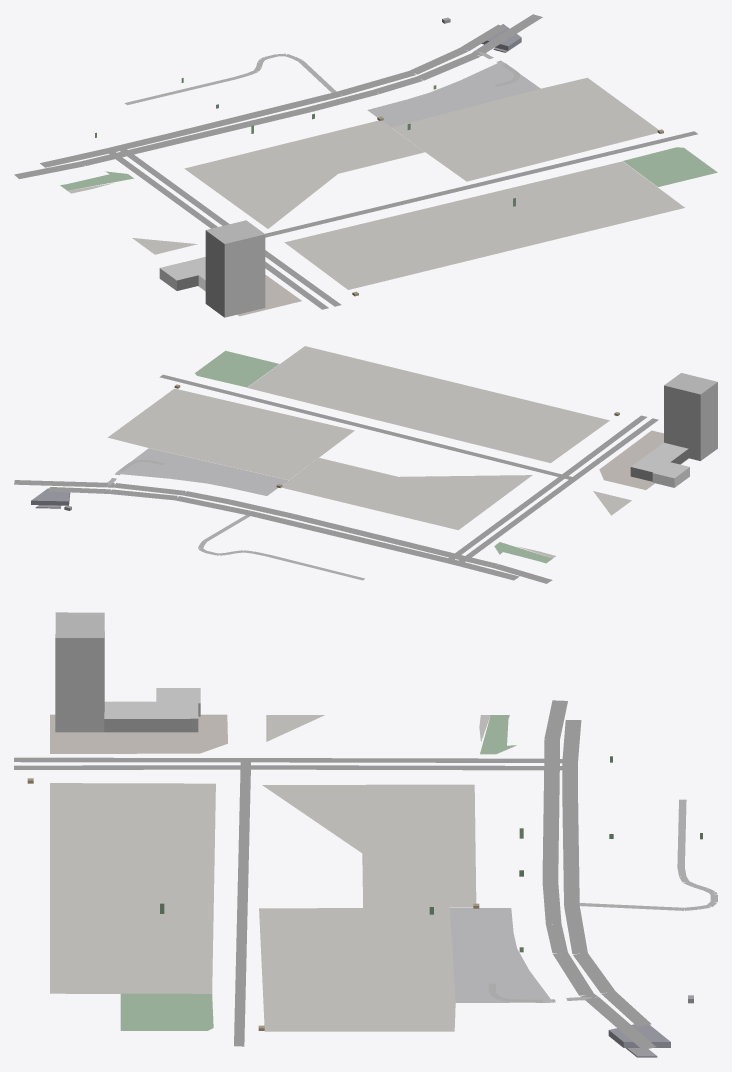
The picture shows the model from 3 angles, top to bottom: view 1: azimuth 30°, elevation 25°; view 2: azimuth 150°, elevation 25°; view 3: azimuth 270°, elevation 25°; orthographic projection. The views are drawn at different scales.
Bounding box in the file's own units: 552 × 88.96 × 470.
